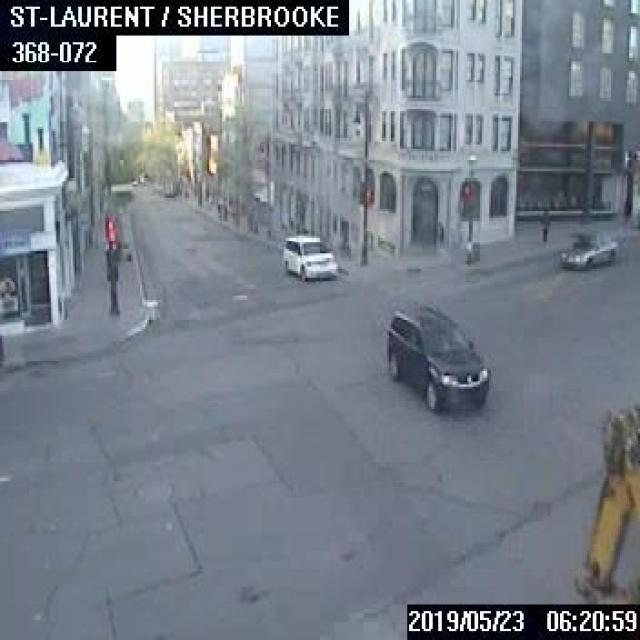pedestrian: (539, 204, 549, 244)
vehicle: (573, 402, 638, 602), (386, 300, 485, 408), (281, 232, 335, 280), (558, 229, 615, 267), (613, 504, 638, 582)
